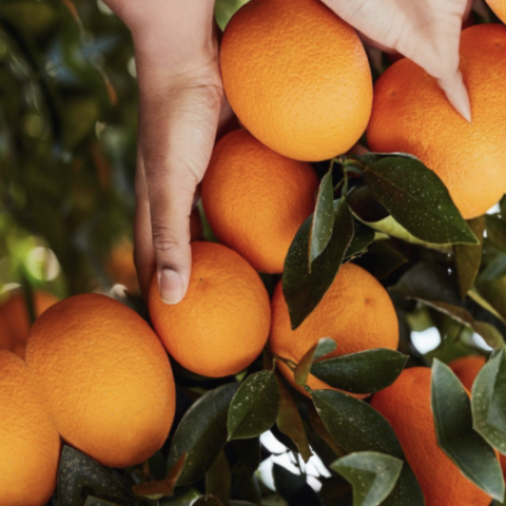orange: (7, 258, 229, 500), (185, 0, 416, 197), (119, 214, 306, 416)
